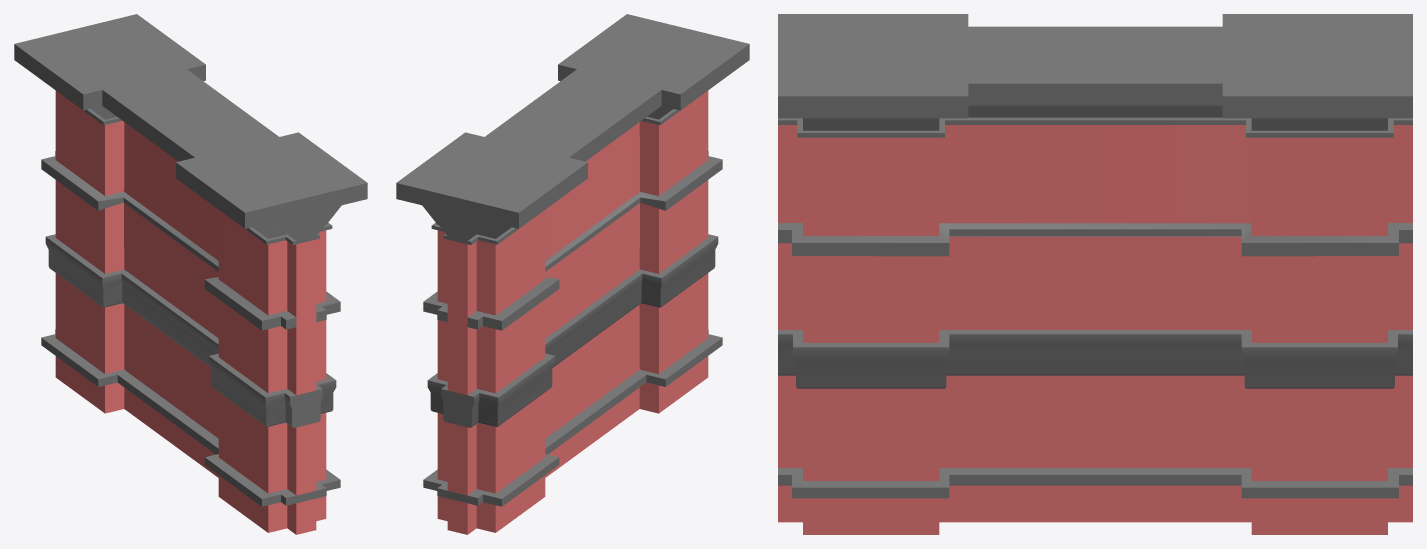
File: WallDoor.fbx
The picture shows the model from 3 angles, left to right: view 1: azimuth 30°, elevation 25°; view 2: azimuth 150°, elevation 25°; view 3: azimuth 270°, elevation 25°; orthographic projection. The views are drawn at different scales.
Visible parts, largest first — view 1: Base005; view 2: Base005; view 3: Base005.
Part boxes in pixels (x1,y1,x2,y2): Base005: (14, 14, 367, 534); Base005: (396, 14, 749, 534); Base005: (778, 14, 1412, 534).
Bounding box in the file's own units: 1.53 × 4 × 5.
